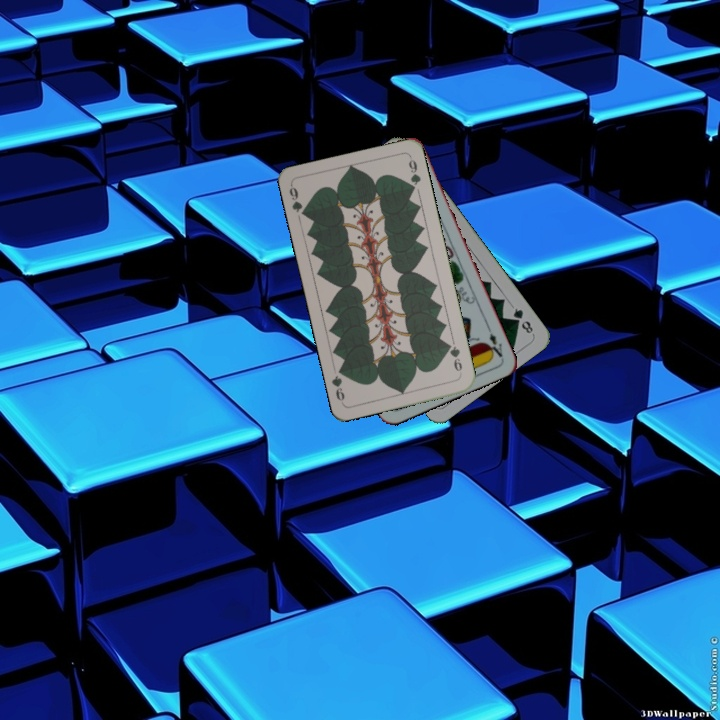EA: (483, 322, 505, 360)
G8: (509, 304, 536, 336)
G9: (285, 181, 310, 220), (443, 339, 465, 377)
